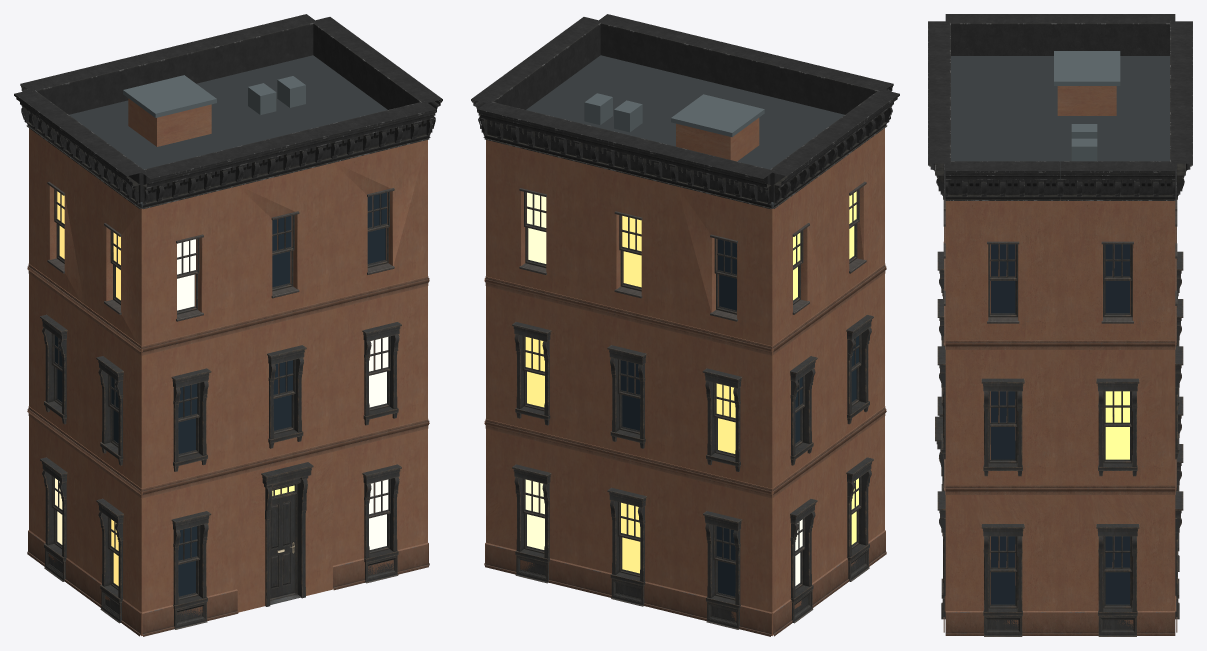
Rendered from apartment_a_detail.glb.
3 renders of one model, left to right at view 1: azimuth 30°, elevation 25°; view 2: azimuth 150°, elevation 25°; view 3: azimuth 270°, elevation 25°, orthographic.
Visible parts, largest first — view 1: Apartment_A; view 2: Apartment_A; view 3: Apartment_A.
Part boxes in pixels (x1=…): Apartment_A: x1=14, y1=14, x2=442, y2=636; Apartment_A: x1=471, y1=14, x2=899, y2=636; Apartment_A: x1=928, y1=14, x2=1192, y2=636.
Size of the model in its own units: 6.96 by 9.83 by 4.96.
9 materials, 4 textured.
